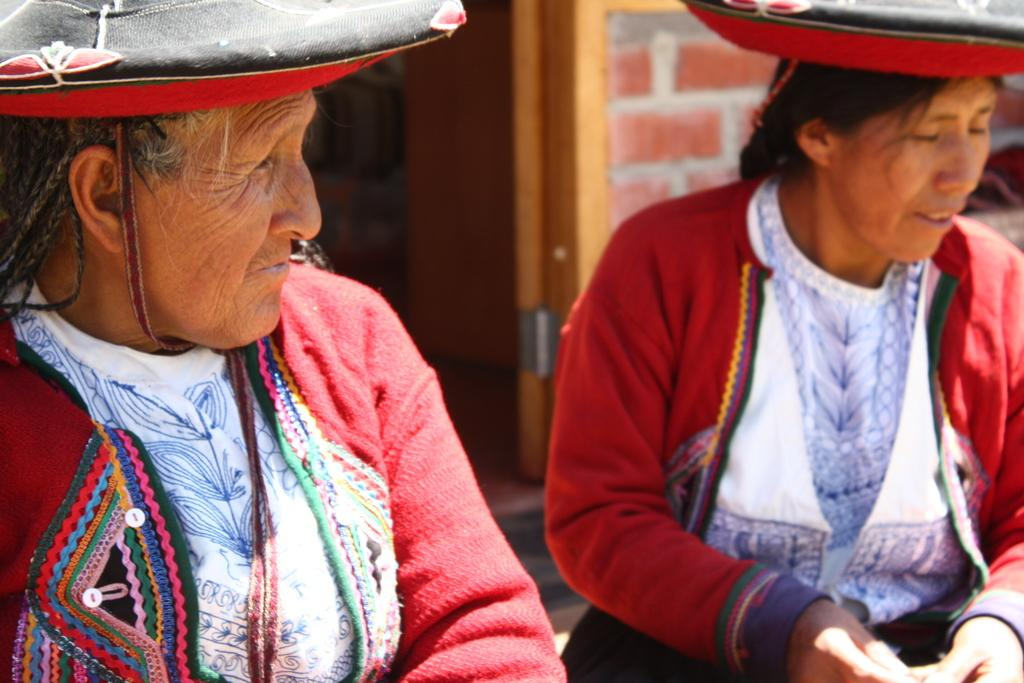Hat: (0, 0, 472, 345), (675, 0, 1023, 129)
